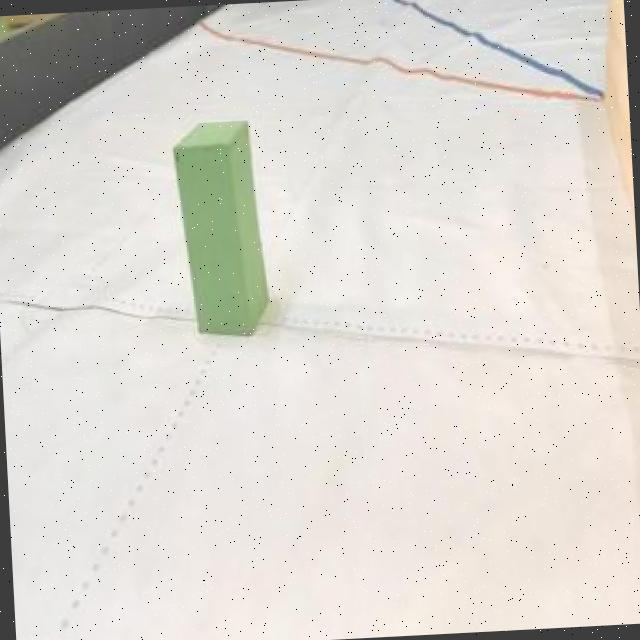greenbox: (170, 120, 269, 338)
